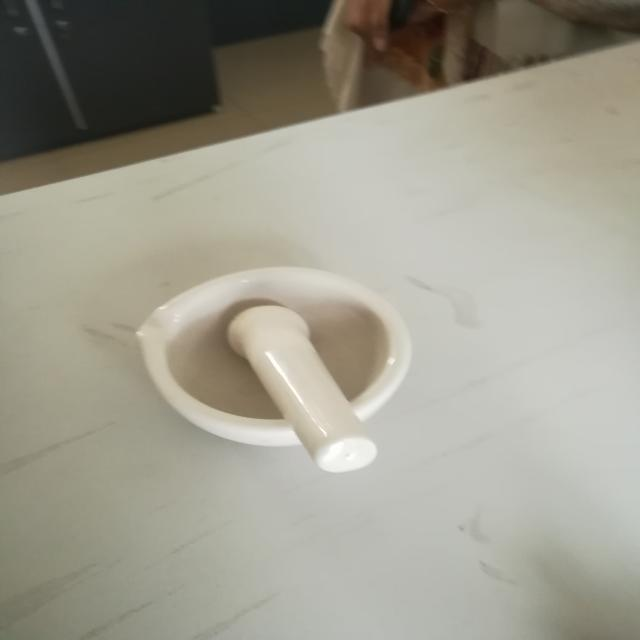Porcelain_Mortar Pestle: (110, 256, 482, 519)
